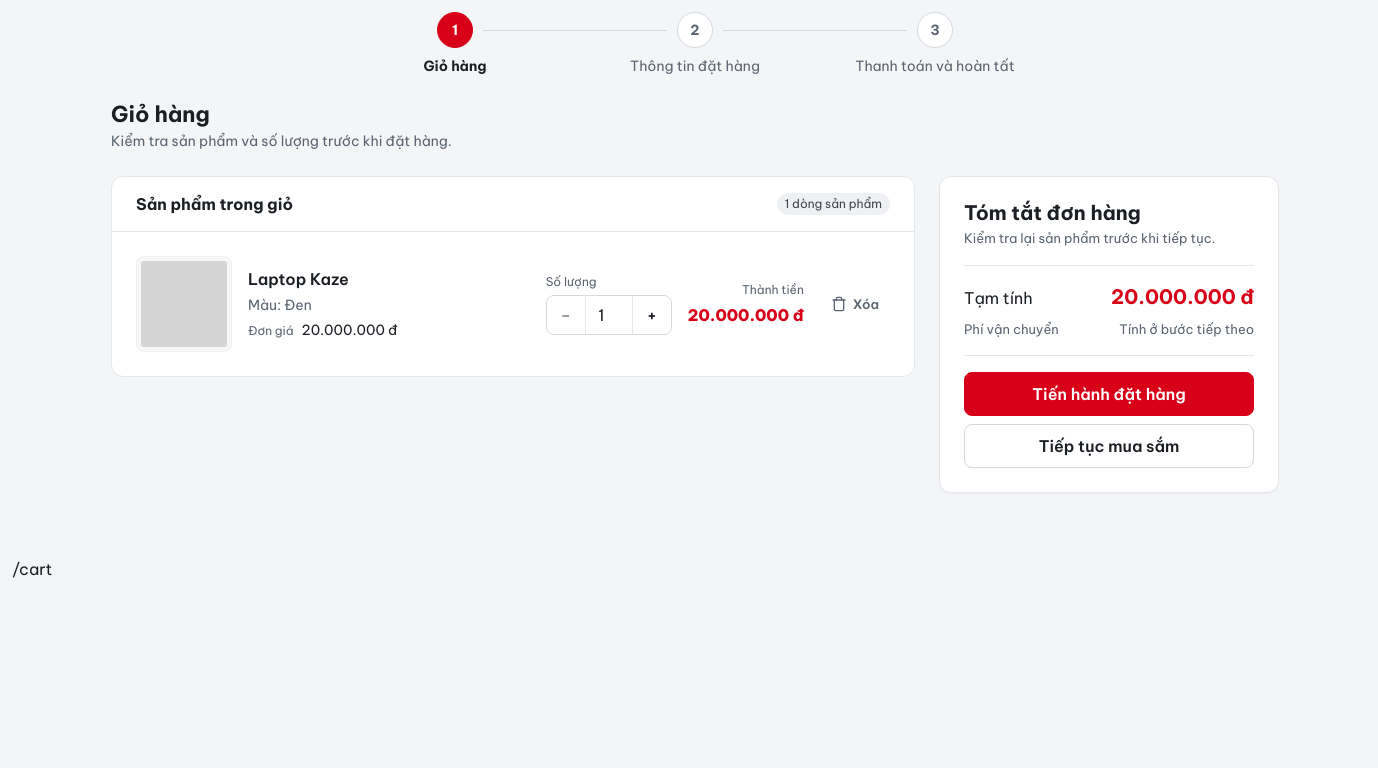
Test: CartPage: đổi số lượng và xóa › nút tăng gửi PATCH với số lượng mới và cập nhật thành tiền, tạm tính
Click the button "+": (652, 315) [633,296,671,334]
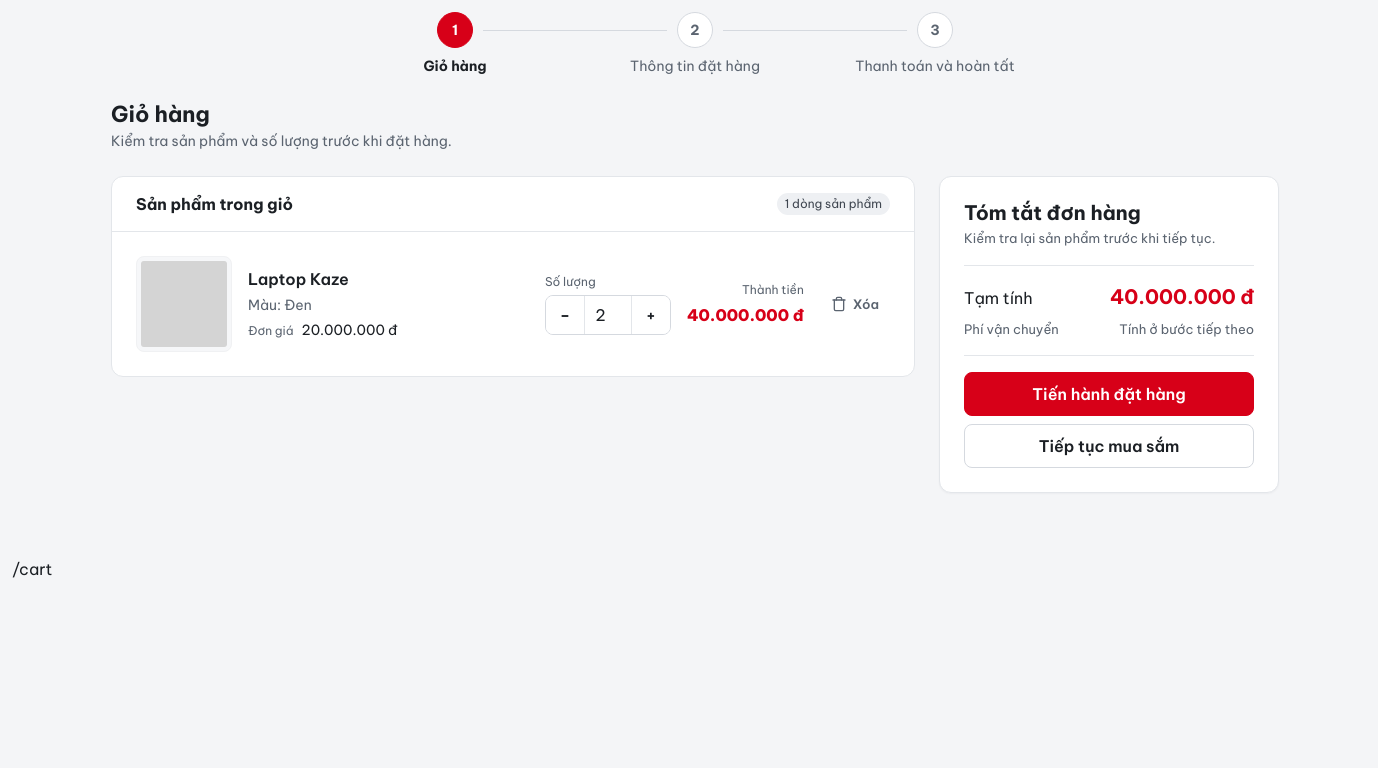
Result: the number field holds "2" at [584,296,632,334]
Result: the text with class "cart-line-total" reads "40.000.000 đ" at [687,305,804,325]
Result: the element with class "cart-summary" shows "40.000.000 đ" at [1110,284,1254,309]
